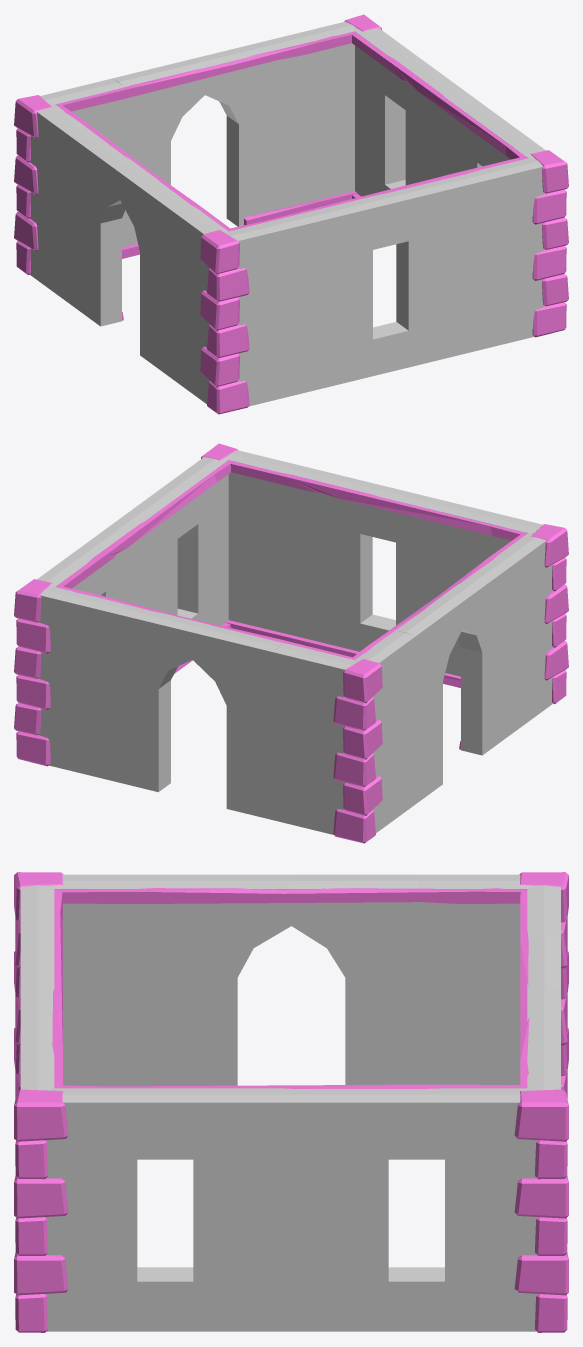
File: SM_Tower_Square_Entrance_L_6m_Fantasy_Base.fbx
3 renders of one model, top to bottom at view 1: azimuth 30°, elevation 25°; view 2: azimuth 150°, elevation 25°; view 3: azimuth 270°, elevation 25°, orthographic. The views are drawn at different scales.
Parts seen in each view (by area): view 1: SM_Tower_Square_Entrance_L_6m_Fantasy_Base; view 2: SM_Tower_Square_Entrance_L_6m_Fantasy_Base; view 3: SM_Tower_Square_Entrance_L_6m_Fantasy_Base.
Part boxes in pixels (box(x1,y1,x2,y2)): SM_Tower_Square_Entrance_L_6m_Fantasy_Base: box(14, 14, 568, 414); SM_Tower_Square_Entrance_L_6m_Fantasy_Base: box(14, 443, 568, 843); SM_Tower_Square_Entrance_L_6m_Fantasy_Base: box(14, 872, 568, 1332).
Bounding box in the file's own units: 6.61 × 3.05 × 6.59.
